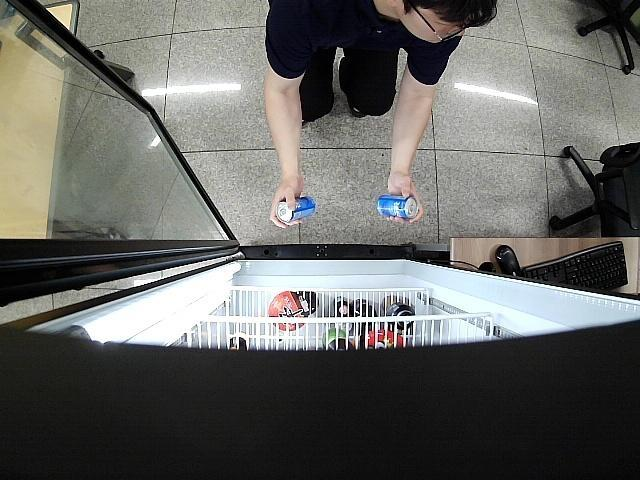15_letsbe: (274, 195, 318, 224), (377, 194, 418, 222)
